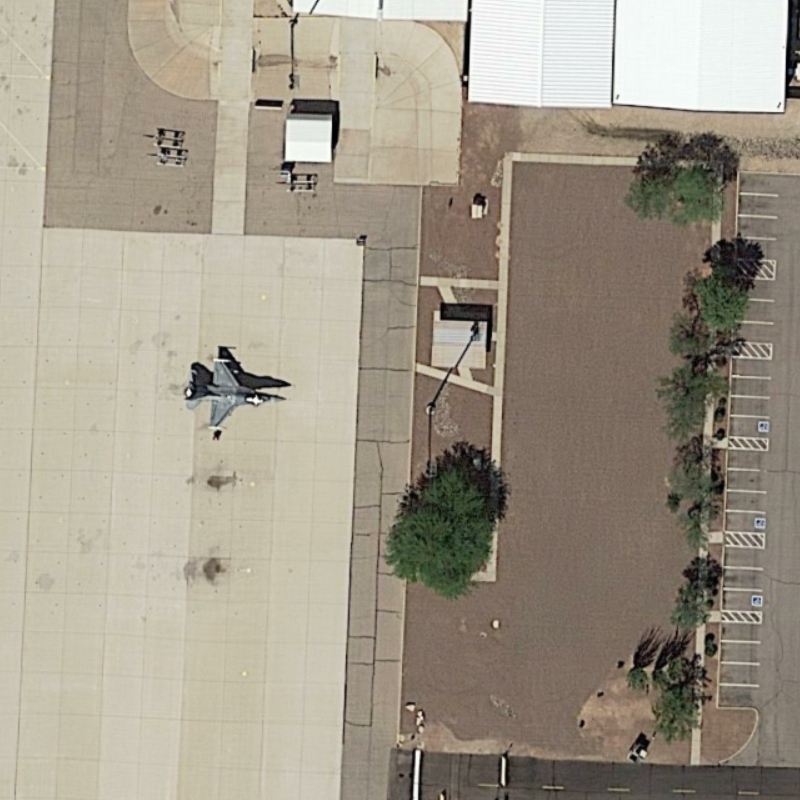A5: (181, 346, 288, 442)
